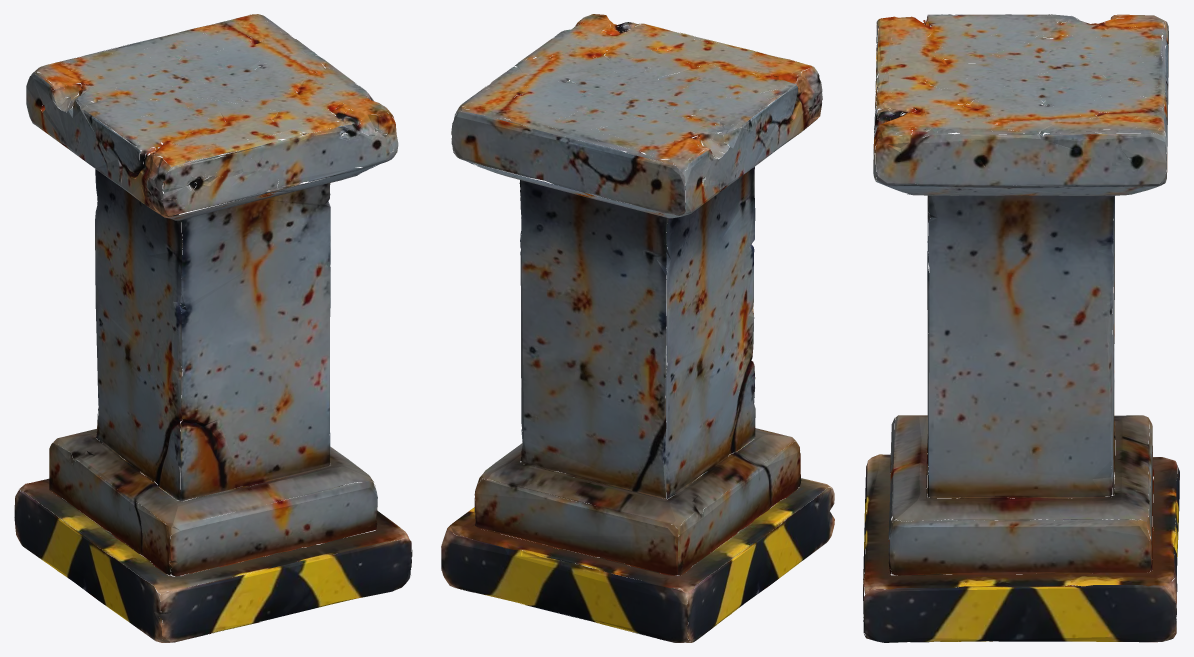
The model's file is concrete-pillar.glb.
3 renders of one model, left to right at view 1: azimuth 30°, elevation 25°; view 2: azimuth 150°, elevation 25°; view 3: azimuth 270°, elevation 25°, orthographic. The views are drawn at different scales.
Visible parts, largest first — view 1: prop; view 2: prop; view 3: prop.
Part boxes in pixels (x1,y1,x2,y2): prop: (14,14,412,642); prop: (441,14,834,642); prop: (863,14,1179,642).
Size of the model in its own units: 0.7428 by 1.35 by 0.7621.
1 material, 1 textured.
